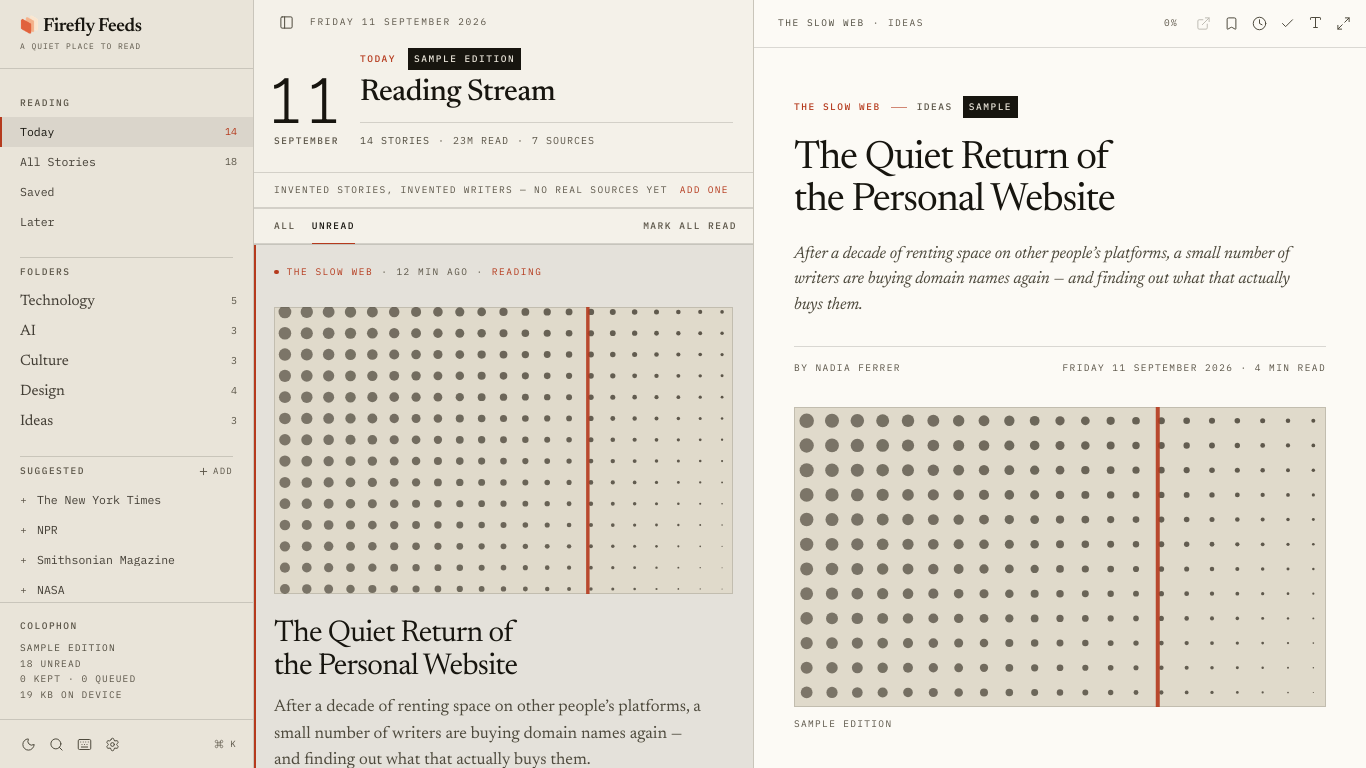
Scenario: columns › searches across every source
Expected: the heading "Reading Stream" is shown, [360,78,555,108]
Step 1. Type keys "/"
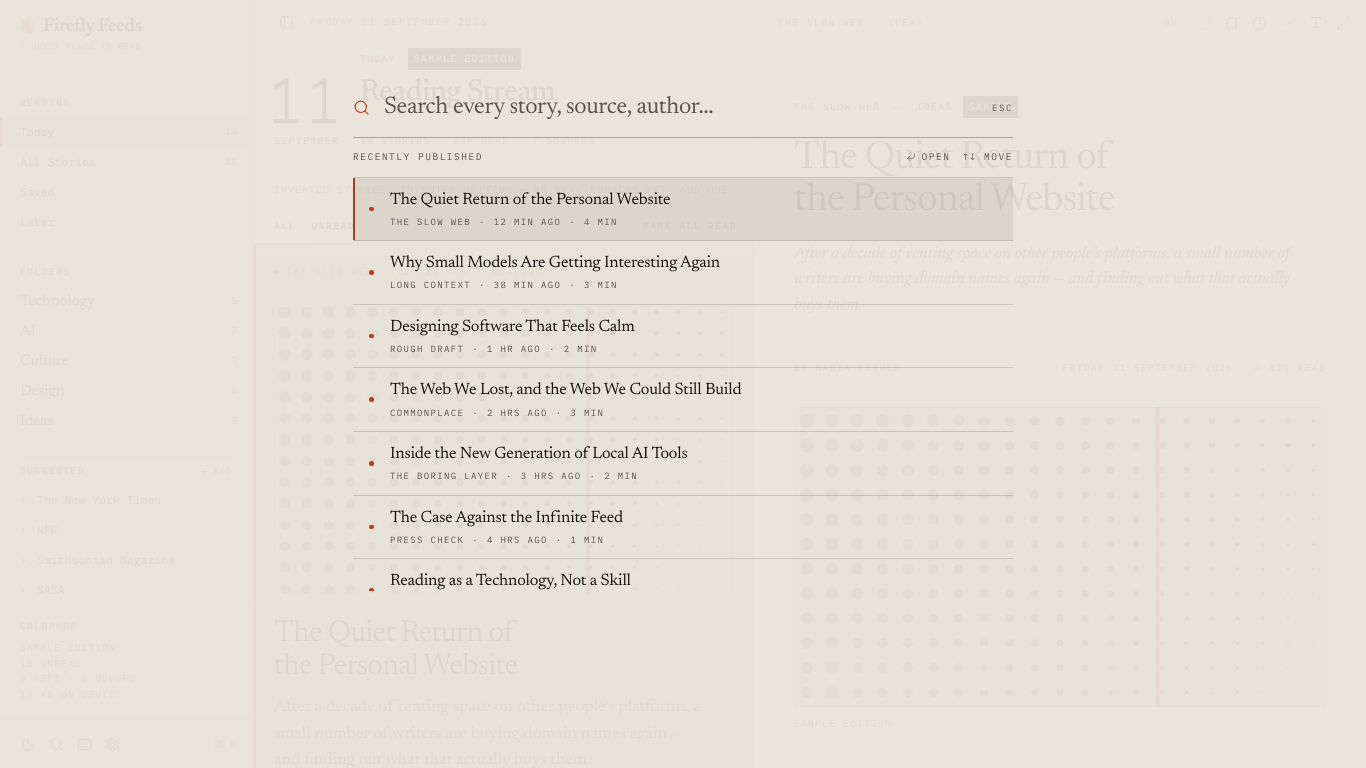
Step 2. Type "small models" into the field with placeholder "Search every story, source, author…" → (681, 108), box [384,92,978,123]
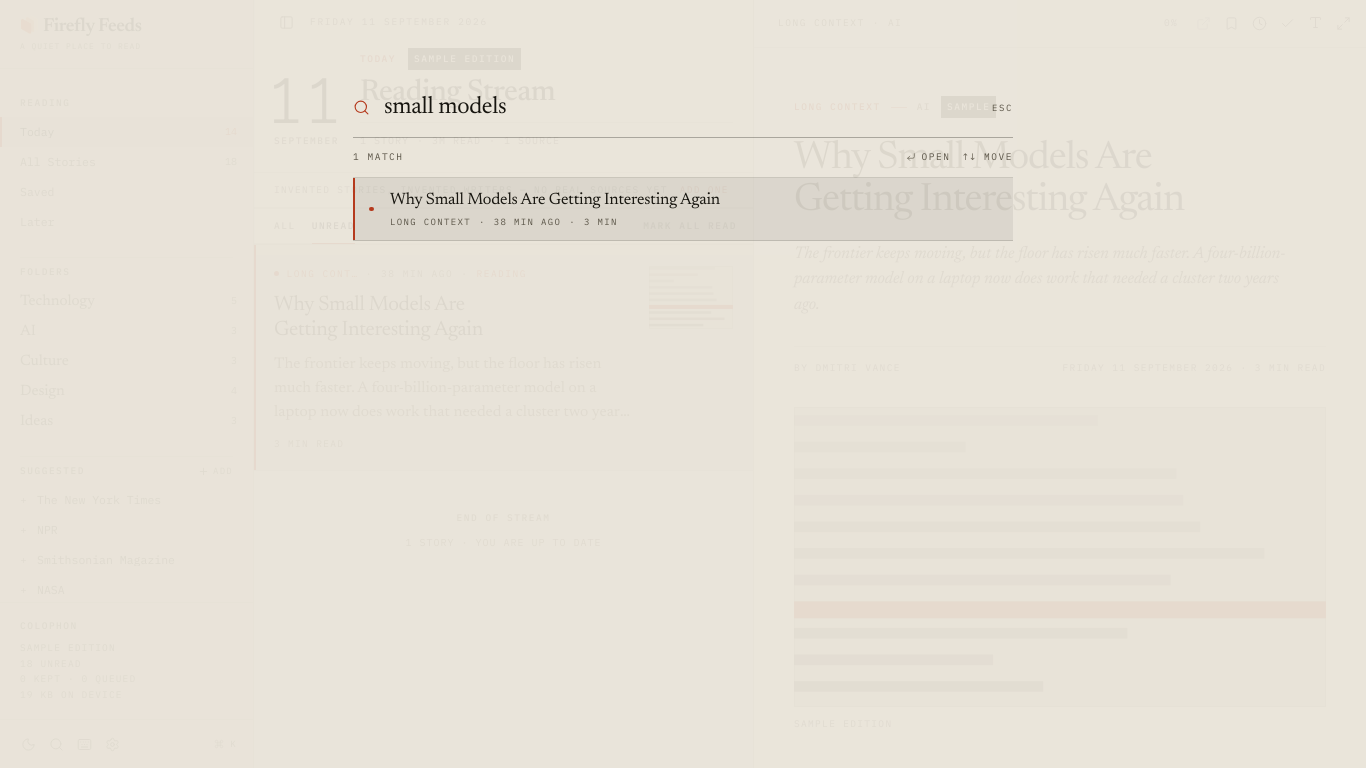
Now the text "1 match" is shown, box [353,150,404,165]
